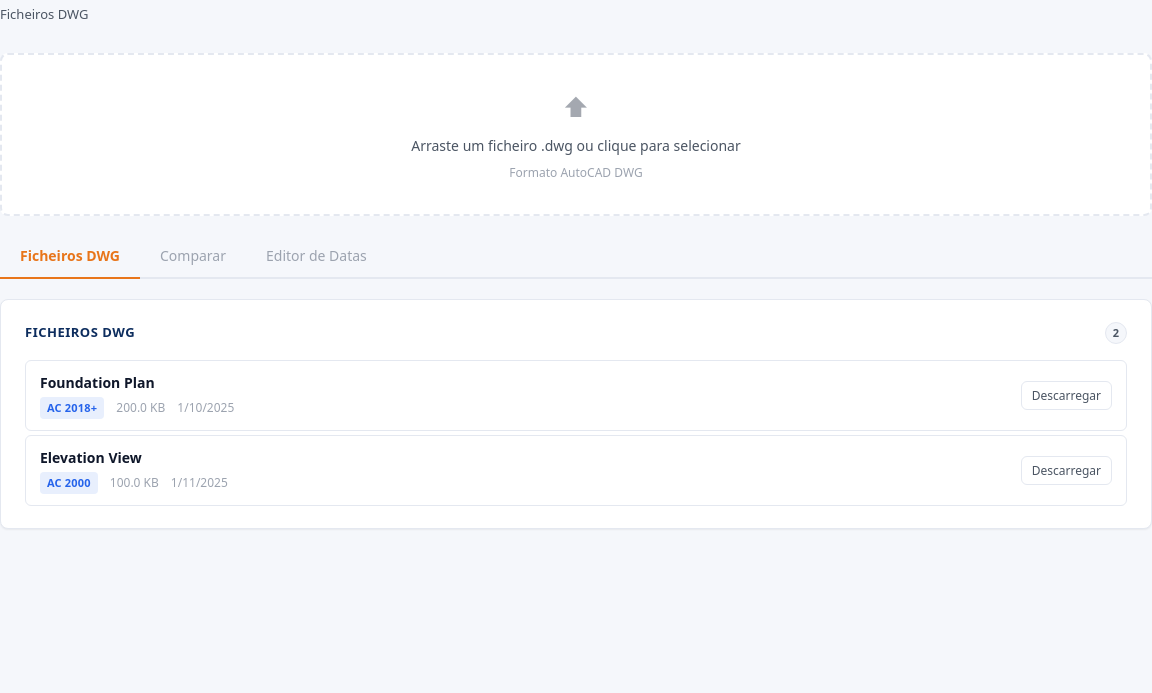
Test case: EngineeringTools › clicking a file row expands the metadata panel
This screenshot has width=1152, height=693.
Click the element with class "eng-file-row" that starts with "Foundation Plan".
click(576, 395)  # box left=25, top=360, right=1127, bottom=431
(page scrolled)
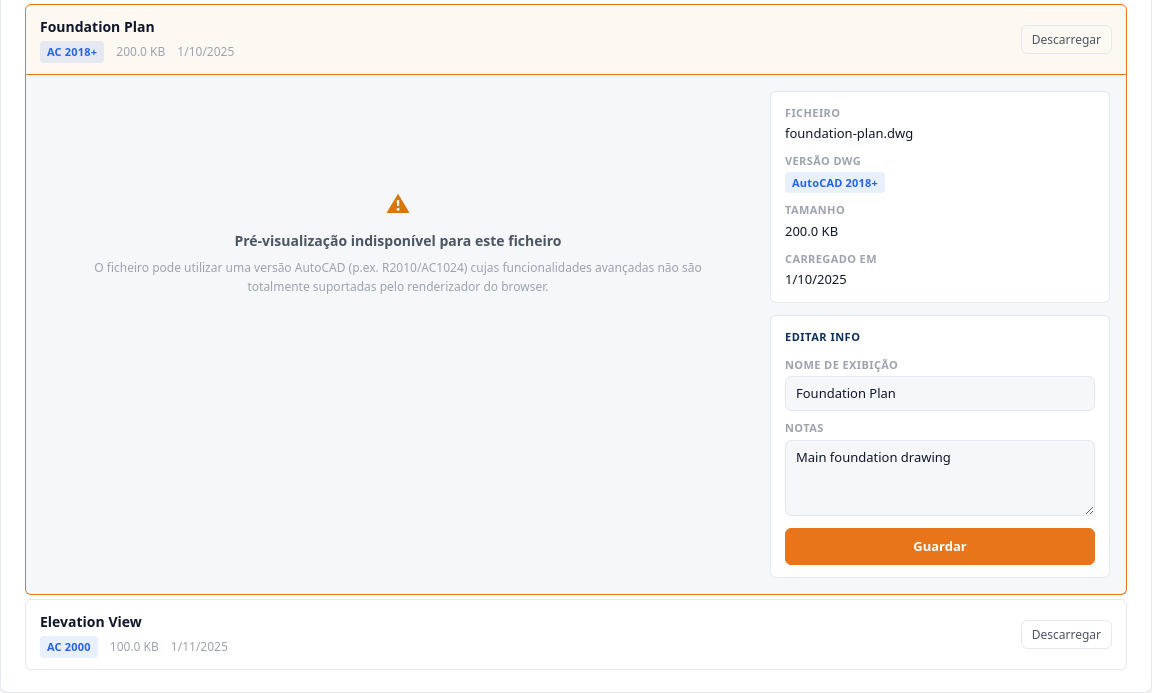
Expected: the element with class "eng-expanded" is shown
